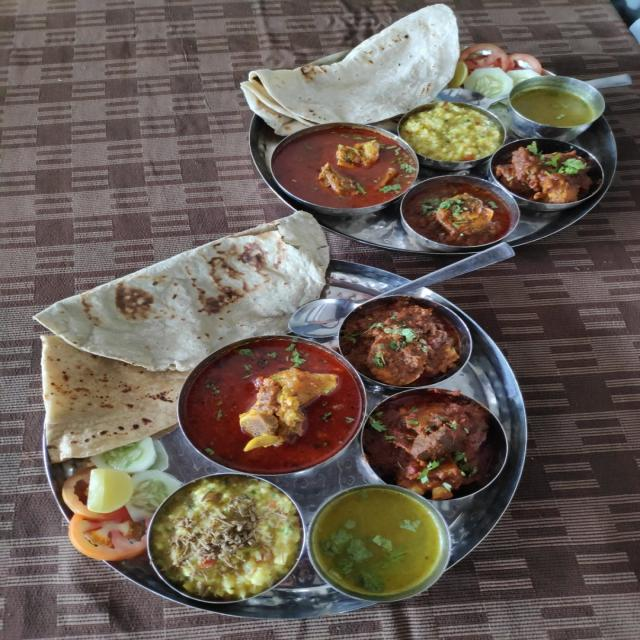non veg meals: (27, 209, 537, 612), (225, 0, 640, 256)
